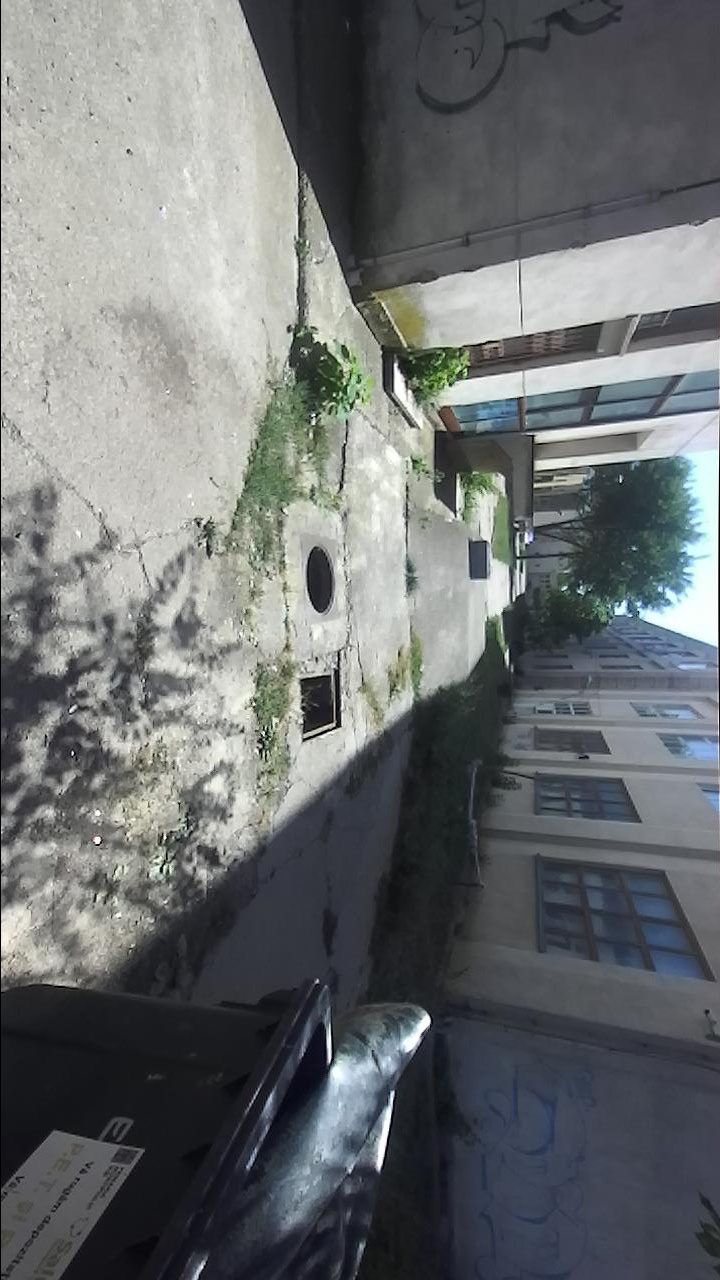drain: (296, 664, 343, 749), (306, 541, 340, 622)
